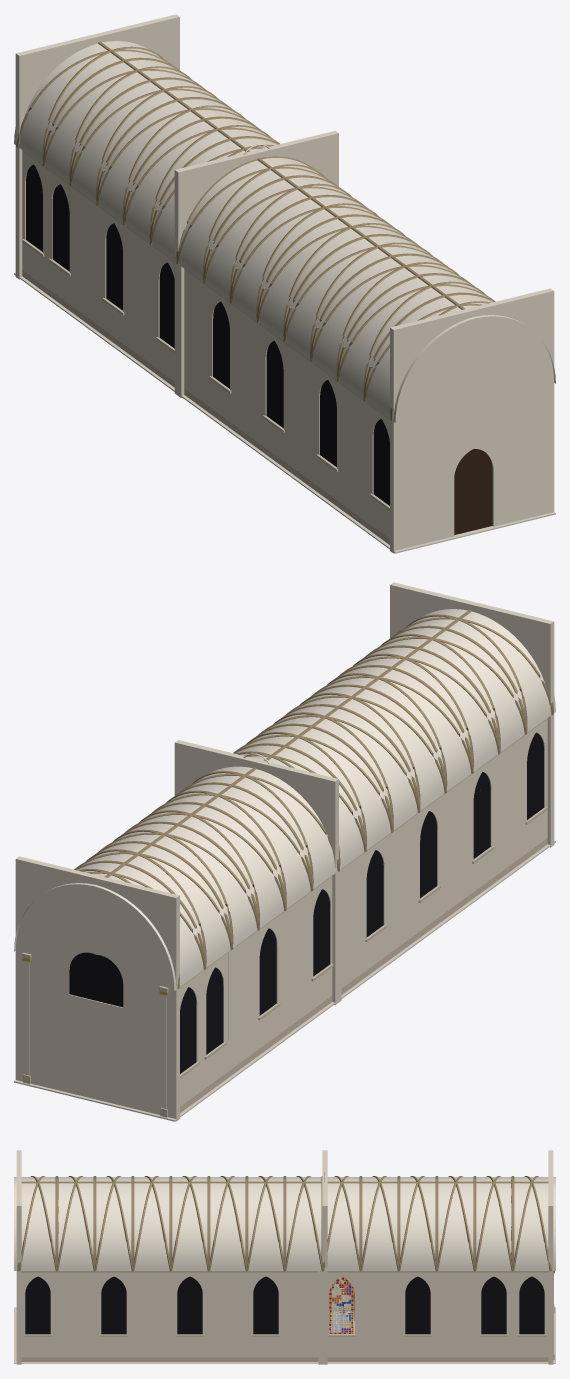
The model's file is museum.glb.
3 renders of one model, top to bottom at view 1: azimuth 30°, elevation 25°; view 2: azimuth 150°, elevation 25°; view 3: azimuth 270°, elevation 25°, orthographic. The views are drawn at different scales.
Visible parts, largest first — view 1: wall_entrance, vault_main, vault_second, wall_far, wall_gallery, wall_-1_9, wall_-1_5, wall_-1_1, wall_-1_11, wall_-1_3, door, wall_-1_7 (+26 smaller); view 2: wall_far, vault_main, vault_second, wall_entrance, wall_gallery, wall_-1_11, wall_-1_1, wall_-1_3, wall_-1_5, wall_-1_9, wall_-1_7, plinth_course_-1 (+29 smaller); view 3: vault_main, vault_second, wall_1_1, wall_1_11, wall_1_3, wall_1_5, wall_1_9, wall_1_7, plinth_course_1, floor, ridge_rib, window_1_0_lead (+55 smaller).
Part boxes in pixels (x1,y1,x2,y2): wall_entrance: [390, 288, 554, 553]; vault_main: [179, 158, 555, 422]; vault_second: [14, 41, 277, 262]; wall_far: [15, 14, 179, 279]; wall_gallery: [174, 130, 338, 256]; wall_-1_9: [127, 228, 154, 365]; wall_-1_5: [234, 306, 261, 444]; wall_-1_1: [341, 385, 368, 522]; wall_-1_11: [74, 189, 100, 326]; wall_-1_3: [288, 345, 314, 483]; door: [454, 449, 492, 534]; wall_-1_7: [184, 270, 207, 404]; wall_far: [15, 856, 179, 1121]; vault_main: [235, 609, 555, 869]; vault_second: [14, 766, 337, 990]; wall_entrance: [390, 582, 554, 847]; wall_gallery: [174, 740, 338, 868]; wall_-1_11: [228, 933, 255, 1070]; wall_-1_1: [496, 737, 522, 875]; wall_-1_3: [442, 777, 468, 914]; wall_-1_5: [389, 816, 415, 953]; wall_-1_9: [282, 894, 308, 1031]; wall_-1_7: [341, 855, 362, 987]; plinth_course_-1: [180, 838, 547, 1112]; vault_main: [14, 1177, 321, 1270]; vault_second: [324, 1177, 555, 1270]; wall_1_1: [57, 1272, 94, 1357]; wall_1_11: [437, 1272, 474, 1357]; wall_1_3: [133, 1272, 170, 1357]; wall_1_5: [209, 1272, 246, 1357]; wall_1_9: [361, 1272, 398, 1357]; wall_1_7: [285, 1272, 318, 1357]; plinth_course_1: [21, 1357, 548, 1361]; floor: [14, 1307, 555, 1363]; ridge_rib: [21, 1181, 548, 1183]; window_1_0_lead: [25, 1276, 50, 1334].
Size of what is drawn, in the model's own units: 13.19 by 17.85 by 53.5.
